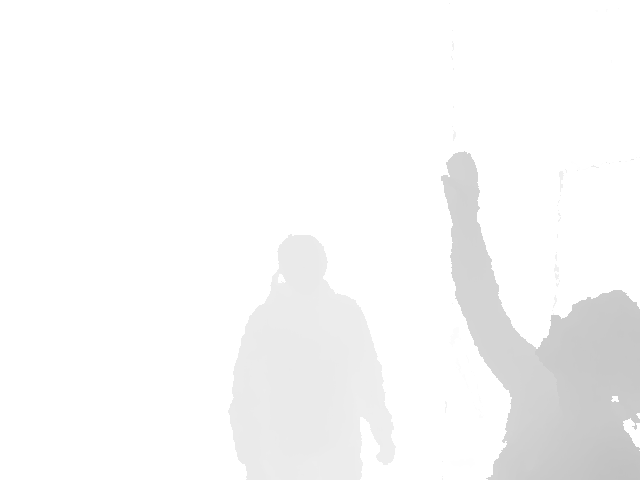hand: (441, 151, 480, 221)
head: (538, 288, 640, 416), (277, 234, 328, 289)
person: (441, 151, 640, 480), (226, 234, 396, 480)
